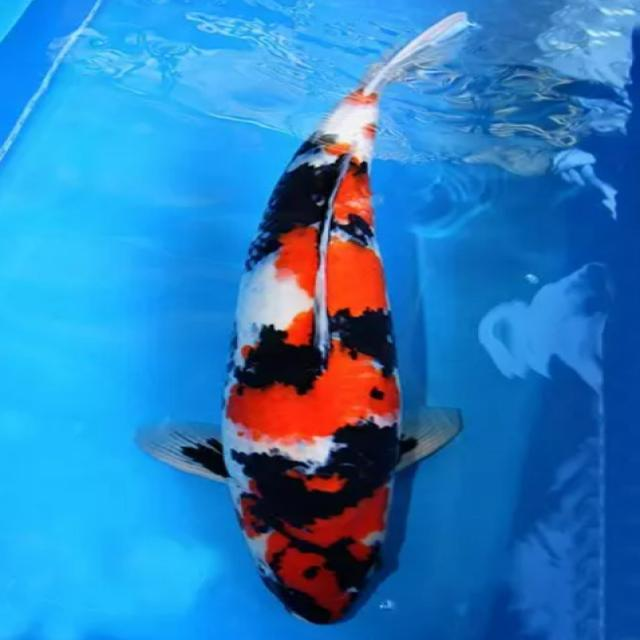Showa: (135, 9, 482, 624)
